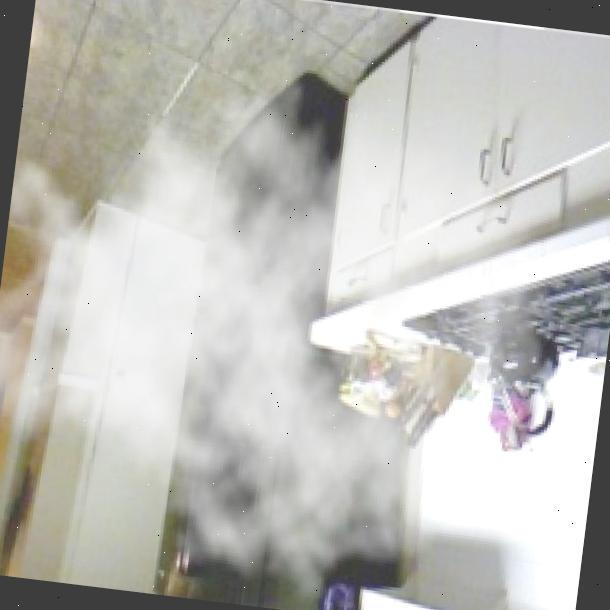smoke: (0, 2, 579, 610)
